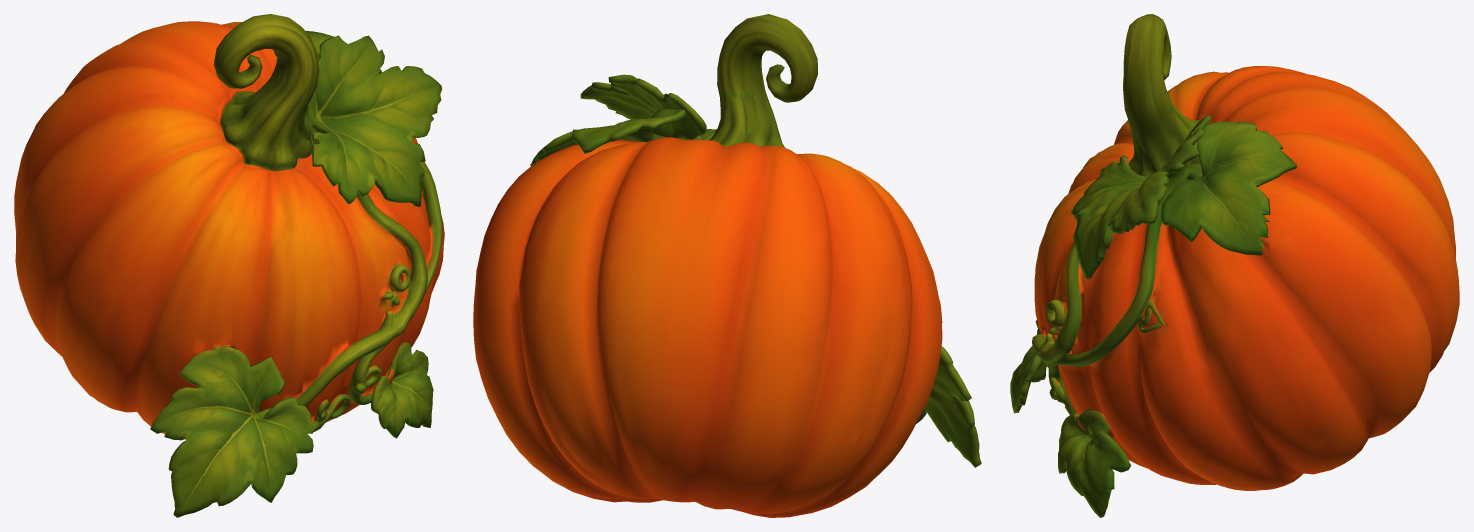
File: crop_pumpkin_ready.glb
The picture shows the model from 3 angles, left to right: view 1: azimuth 30°, elevation 25°; view 2: azimuth 150°, elevation 25°; view 3: azimuth 270°, elevation 25°; orthographic projection. The views are drawn at different scales.
Parts seen in each view (by area): view 1: tripo_node_2ef83a55-2dbd-45eb-b140-923e70324f74; view 2: tripo_node_2ef83a55-2dbd-45eb-b140-923e70324f74; view 3: tripo_node_2ef83a55-2dbd-45eb-b140-923e70324f74.
Boxes of the visible parts, left/top/right/bottom form: tripo_node_2ef83a55-2dbd-45eb-b140-923e70324f74: left=14, top=14, right=444, bottom=517; tripo_node_2ef83a55-2dbd-45eb-b140-923e70324f74: left=473, top=14, right=981, bottom=517; tripo_node_2ef83a55-2dbd-45eb-b140-923e70324f74: left=1010, top=14, right=1459, bottom=517.
Size of the model in its own units: 0.8909 by 0.9791 by 0.9178.
Materials: 1 (1 with a texture image).
